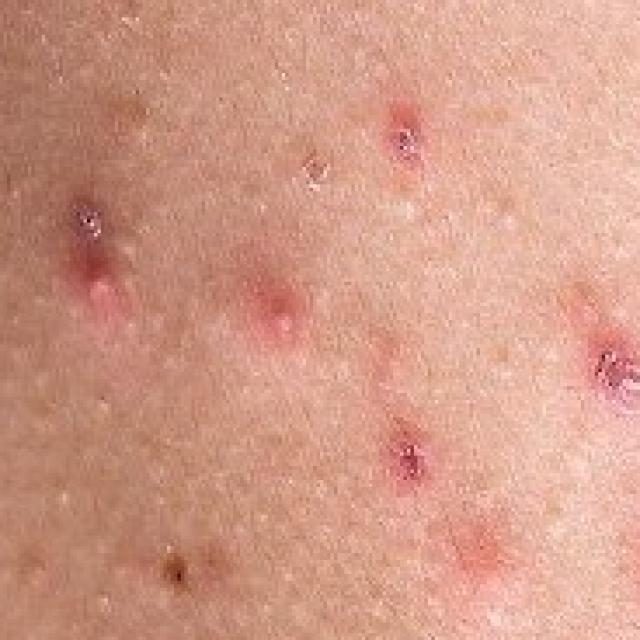acne: (56, 170, 150, 320), (354, 90, 466, 206), (365, 407, 466, 532), (226, 250, 324, 372), (556, 313, 640, 441), (132, 511, 226, 619), (619, 515, 640, 619)
